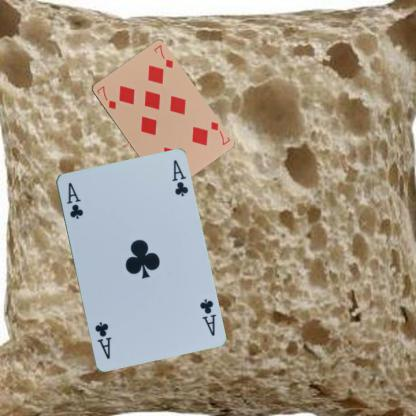7d: (208, 119, 231, 146), (94, 84, 117, 110)
Ac: (196, 296, 218, 337), (64, 180, 84, 220)
